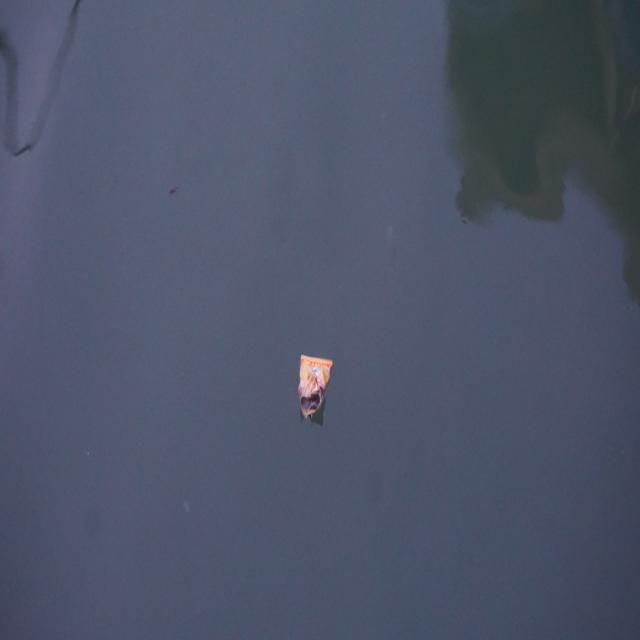Bungkus Makanan: (295, 338, 338, 432)
